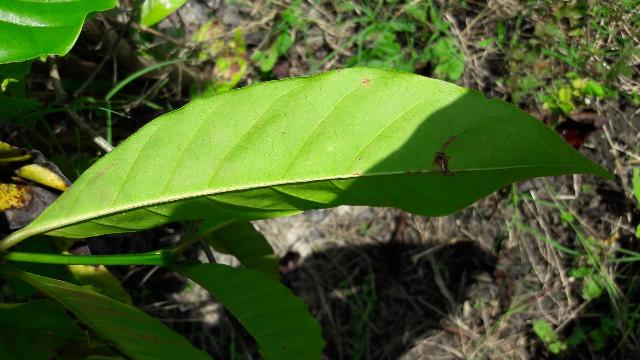red_spider_mite: (29, 71, 613, 237)
